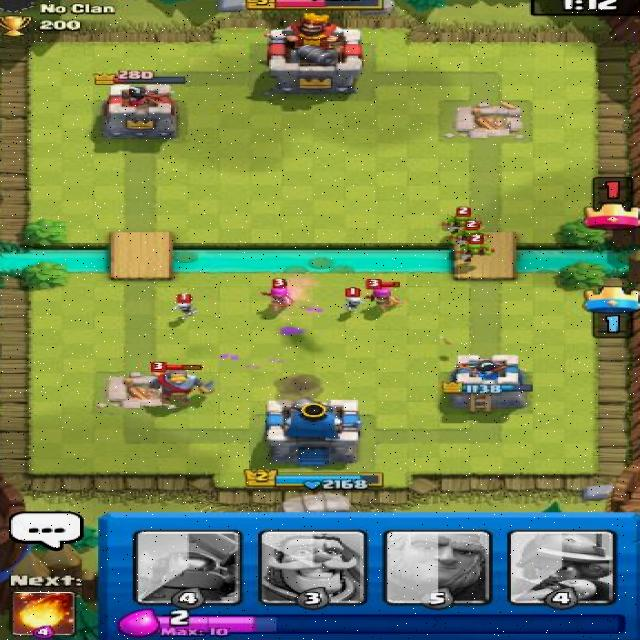Enemy-Archer: (358, 277, 413, 313), (258, 277, 298, 308)
Enemy-Goblin: (440, 206, 489, 237), (447, 218, 495, 246), (456, 234, 498, 264)
Enemy-Knight: (142, 361, 220, 406)
Enemy-Skeleton: (169, 291, 202, 322), (340, 286, 369, 317)
